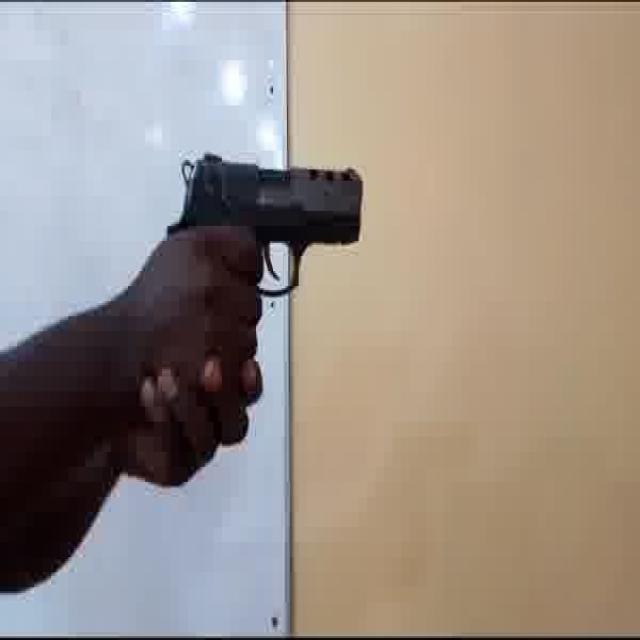weapon: (160, 150, 363, 306)
